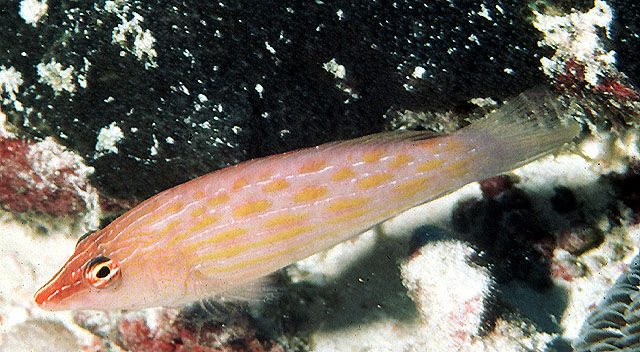fish: (34, 84, 581, 312)
